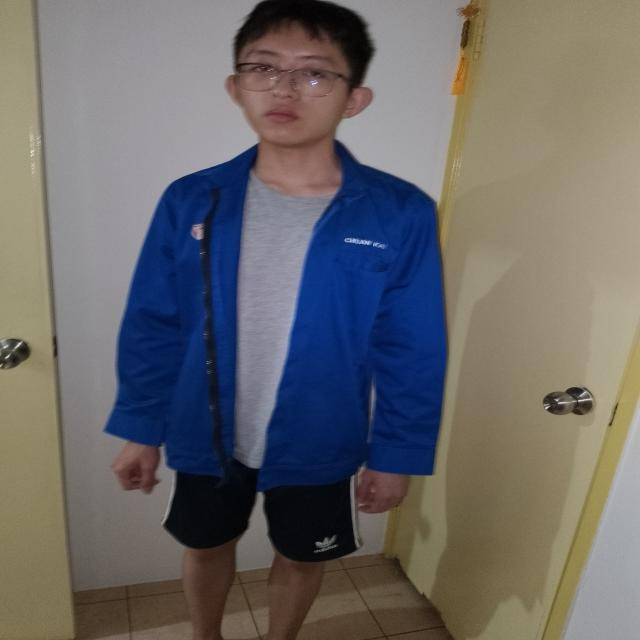person_with_labcoat: (105, 0, 446, 640)
